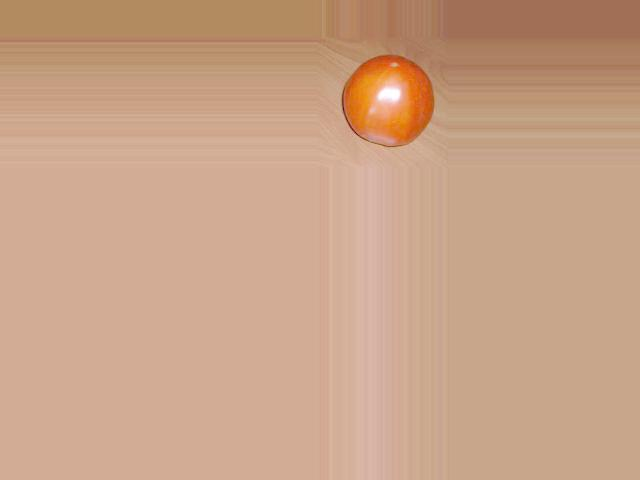tomato: (342, 54, 435, 146)
